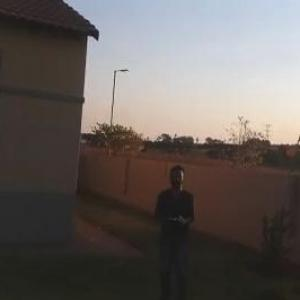follow: (148, 159, 199, 299)
